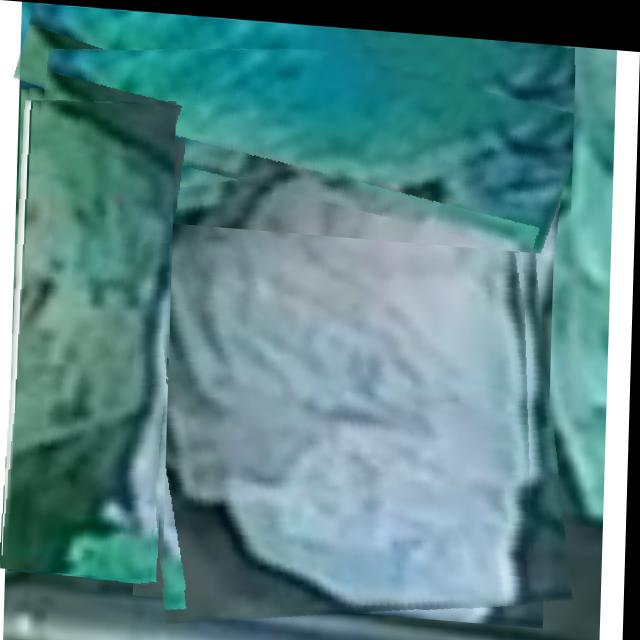general_trashbag: (45, 38, 573, 243), (4, 97, 174, 571)
other_trashbag: (149, 142, 533, 597)
